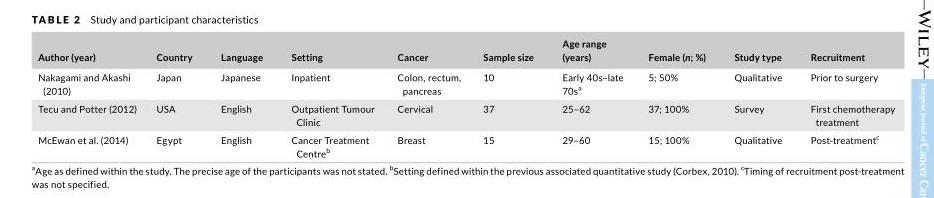table: (38, 37, 895, 158)
table column: (277, 37, 386, 158), (38, 37, 146, 158), (796, 37, 895, 158), (548, 37, 636, 158), (386, 37, 472, 158), (636, 37, 720, 158), (472, 37, 548, 158), (720, 37, 796, 158), (206, 37, 277, 158), (146, 37, 206, 158)
table column header: (38, 37, 895, 66)
table row: (38, 66, 895, 98), (38, 98, 895, 129), (38, 37, 895, 66), (38, 129, 895, 158)
